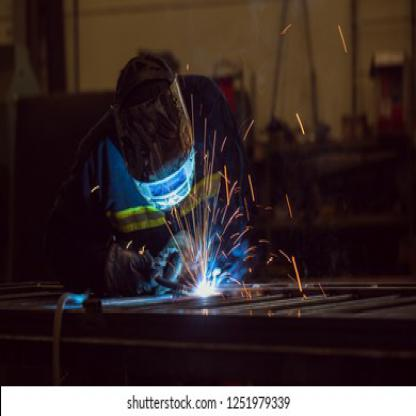with_gloves: (155, 227, 197, 294), (104, 242, 152, 293)
